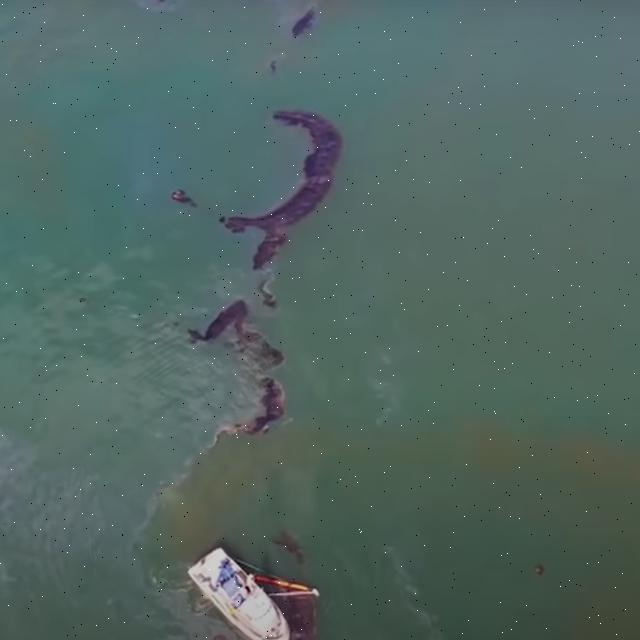oil: (179, 1, 397, 462)
